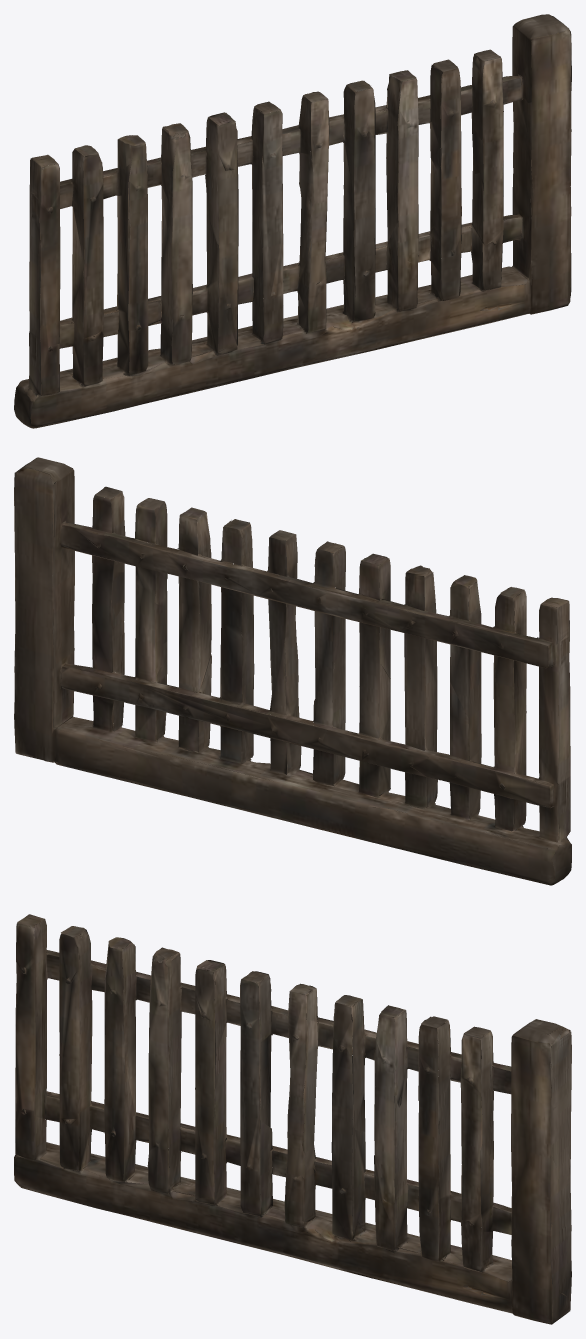
The model's file is town-gate-wing-end.glb.
3 renders of one model, top to bottom at view 1: azimuth 30°, elevation 25°; view 2: azimuth 150°, elevation 25°; view 3: azimuth 330°, elevation 25°, orthographic.
Parts seen in each view (by area): view 1: Mesh_0; view 2: Mesh_0; view 3: Mesh_0.
Boxes of the visible parts, x1,y1,x2,y2 form: Mesh_0: (14, 14, 571, 428); Mesh_0: (14, 457, 571, 885); Mesh_0: (14, 914, 571, 1324).
Size of the model in its own units: 1.9 by 0.9581 by 0.1634.
Materials: 1 (1 with a texture image).
